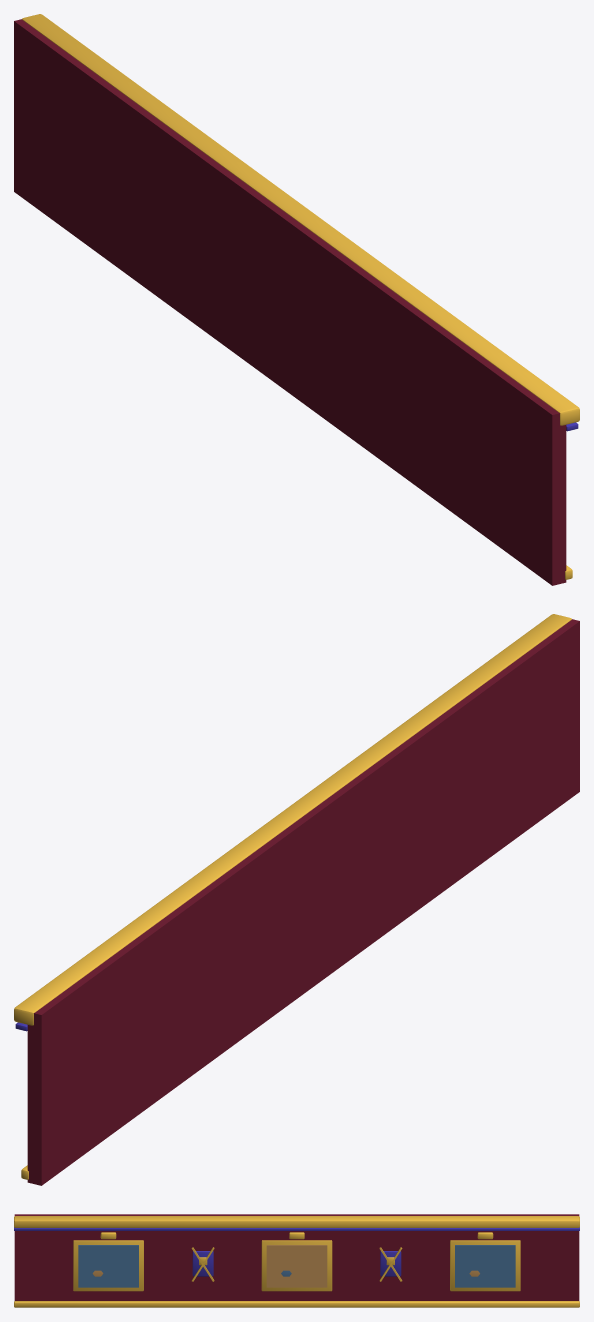
Rendered from WallRoyal.fbx.
3 views of the same model, one above another, from view 1: azimuth 30°, elevation 25°; view 2: azimuth 150°, elevation 25°; view 3: azimuth 270°, elevation 25° (orthographic). The views are drawn at different scales.
Visible parts, largest first — view 1: WallRoyal; view 2: WallRoyal; view 3: WallRoyal.
Boxes of the visible parts, x1,y1,x2,y2 form: WallRoyal: (14,14,579,585); WallRoyal: (14,614,579,1185); WallRoyal: (14,1214,579,1307).
Size of the model in its own units: 240 by 1410 by 8020.
